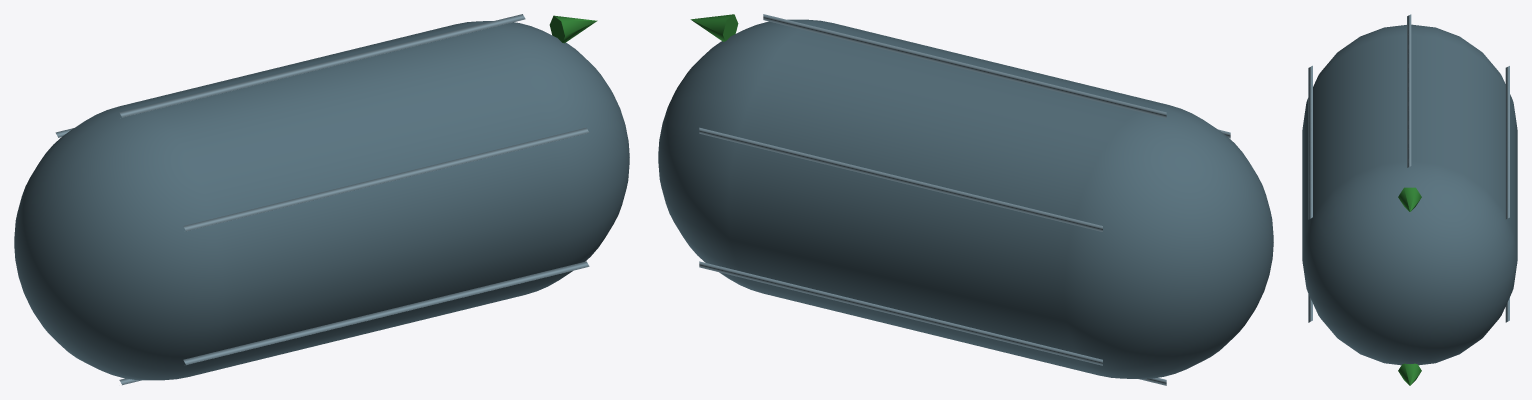
The model's file is cil-vector.glb.
3 renders of one model, left to right at view 1: azimuth 30°, elevation 25°; view 2: azimuth 150°, elevation 25°; view 3: azimuth 270°, elevation 25°, orthographic. The views are drawn at different scales.
Bounding box in the file's own units: 0.86 × 0.3887 × 0.36.
